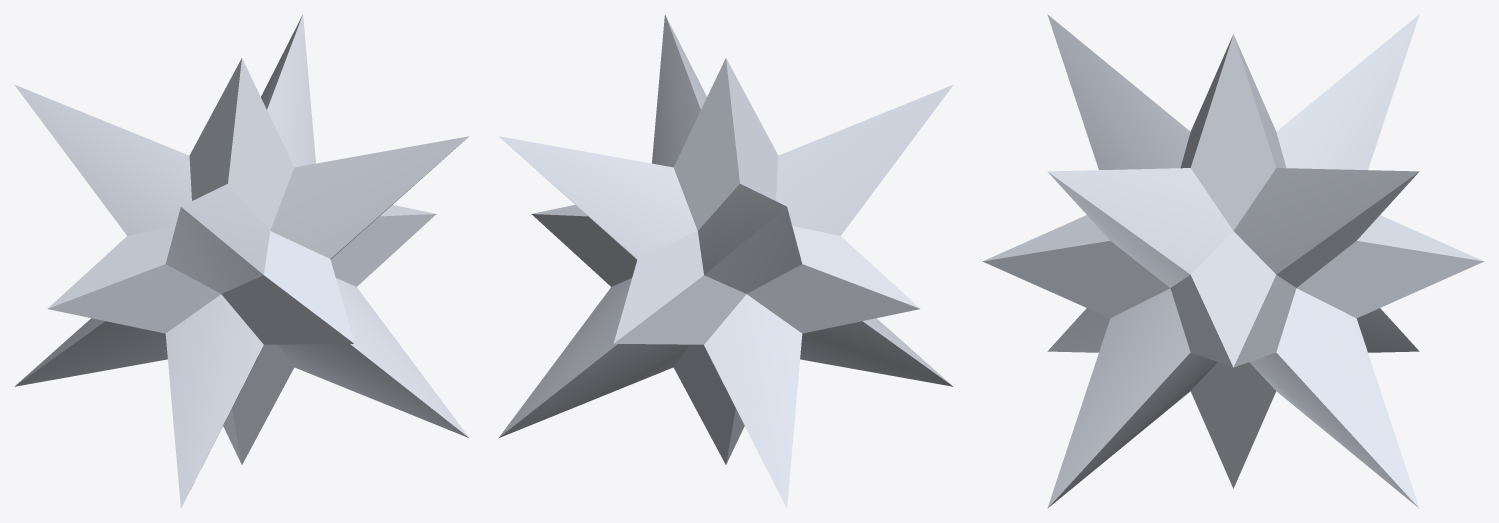
The model's file is Spike C.fbx.
3 views of the same model, side by side, from view 1: azimuth 30°, elevation 25°; view 2: azimuth 150°, elevation 25°; view 3: azimuth 270°, elevation 25° (orthographic). The views are drawn at different scales.
Visible parts, largest first — view 1: Spike C; view 2: Spike C; view 3: Spike C.
Boxes of the visible parts, x1,y1,x2,y2 form: Spike C: (14, 14, 469, 508); Spike C: (498, 14, 953, 508); Spike C: (982, 14, 1484, 508).
Bounding box in the file's own units: 102 × 102 × 102.
